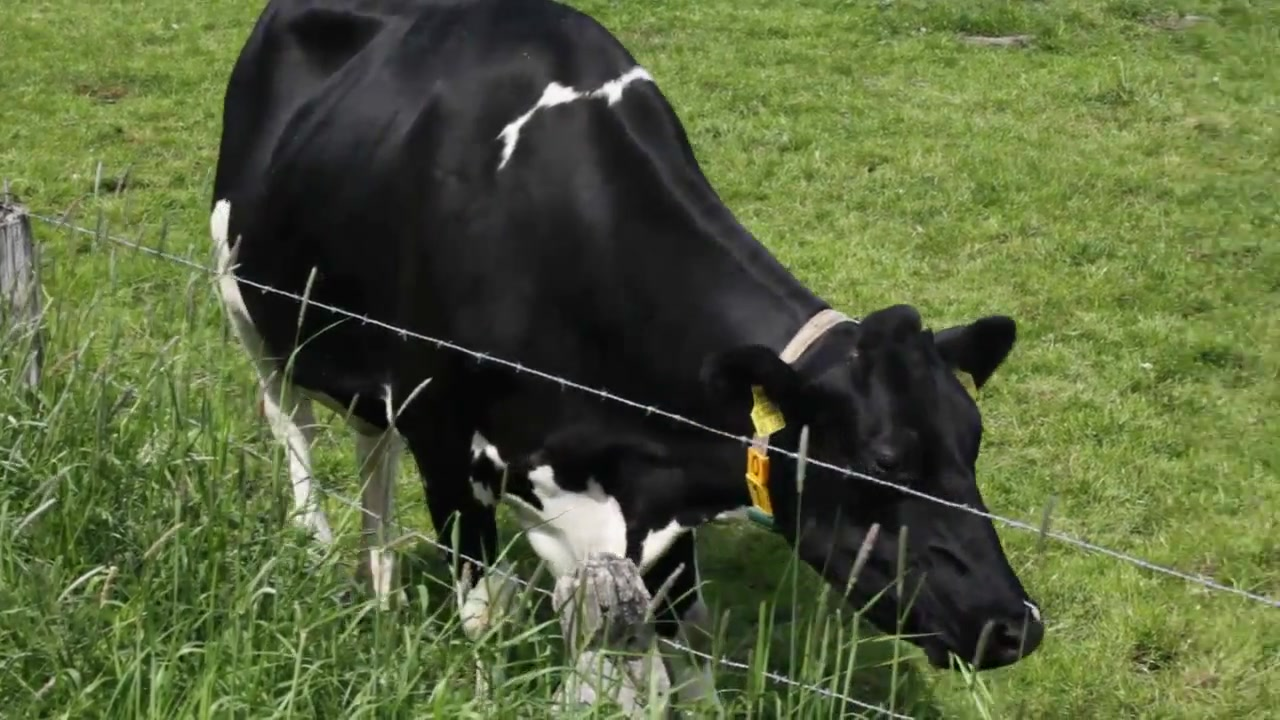cow: (206, 1, 1045, 719)
